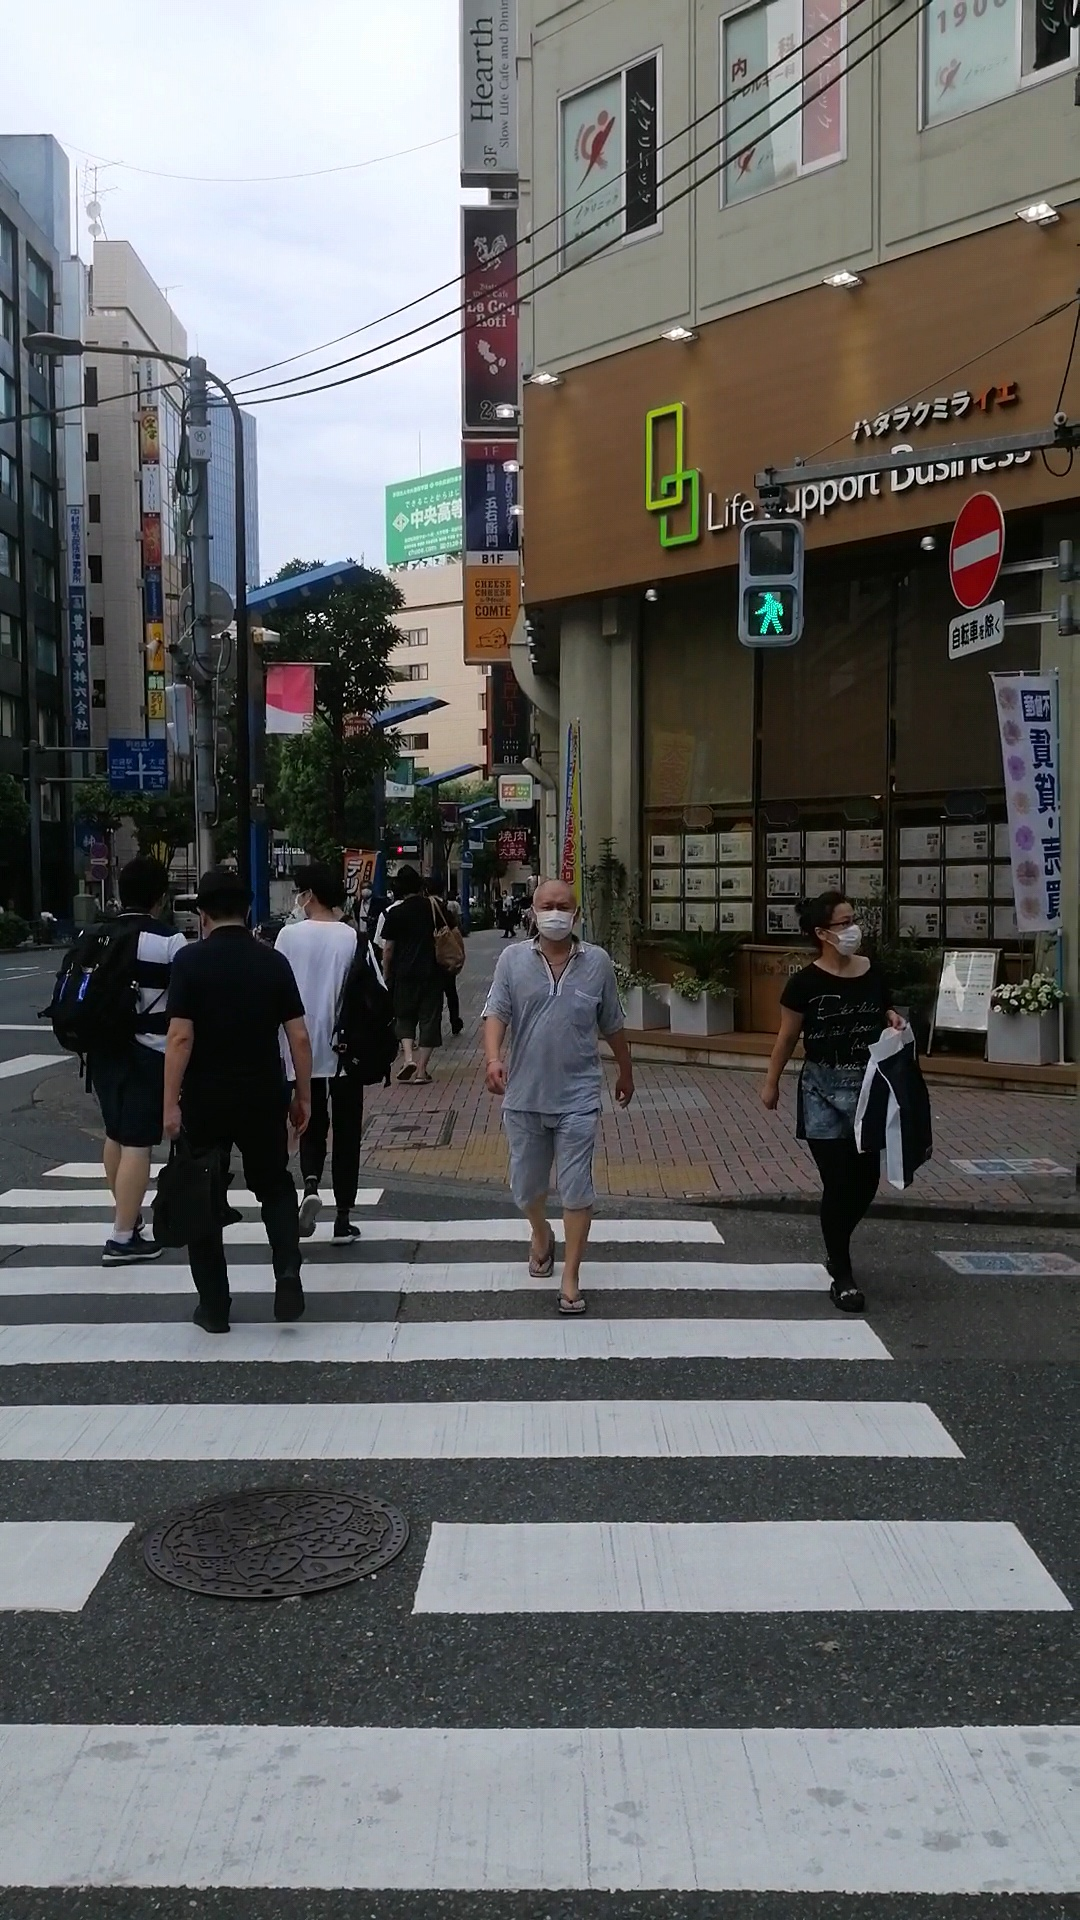green: (738, 520, 804, 644)
